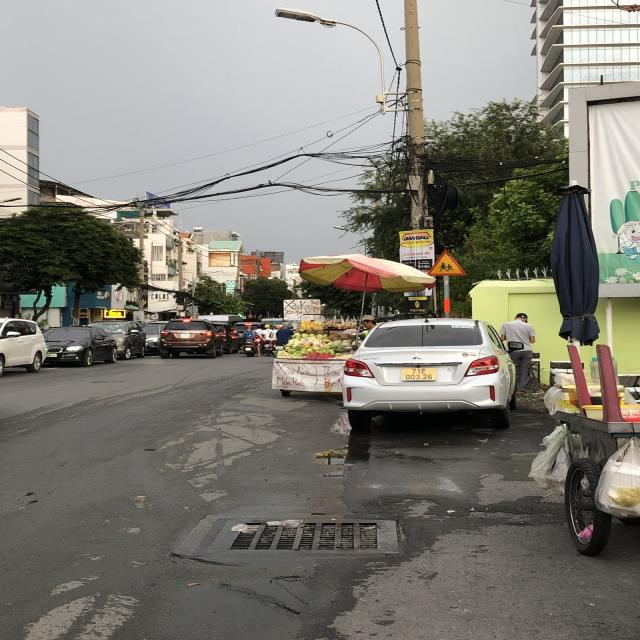Bien bao tre em: (425, 247, 468, 277)
